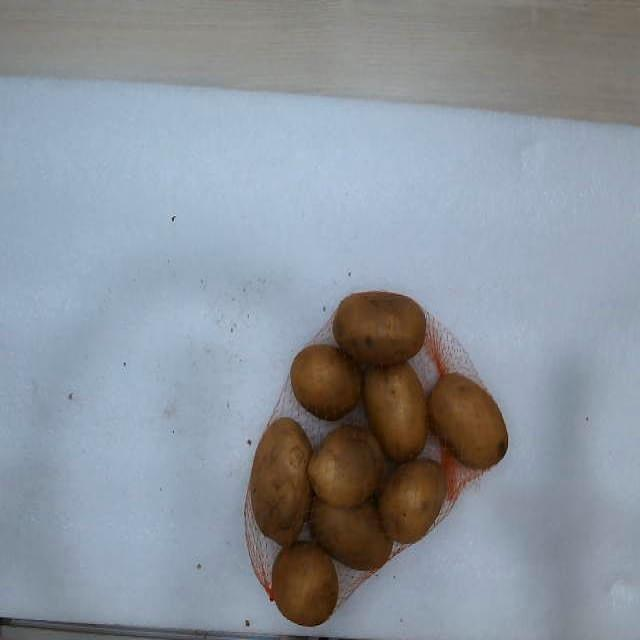potato: (249, 418, 312, 544), (428, 373, 508, 469), (332, 292, 426, 364), (364, 363, 428, 462), (308, 425, 384, 507), (378, 458, 448, 543), (271, 542, 339, 626), (311, 500, 392, 569), (290, 345, 361, 421)
